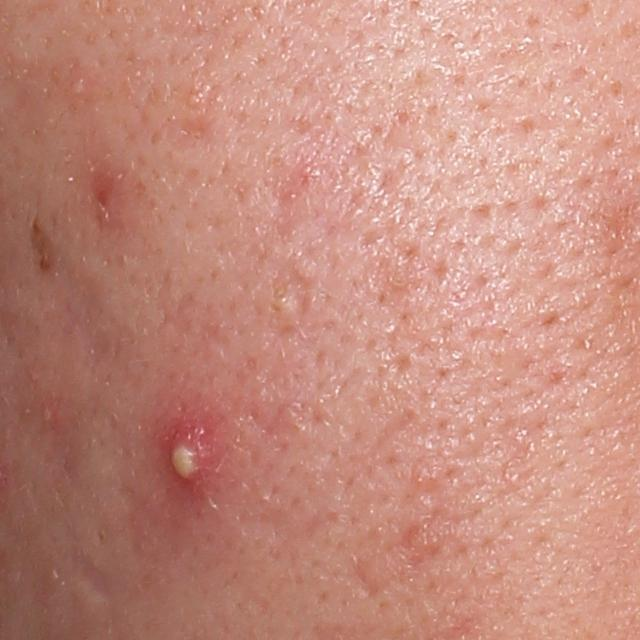atrophic_scar: (271, 255, 312, 331), (70, 544, 115, 605), (392, 516, 441, 568), (350, 551, 383, 606)
comedo: (183, 88, 203, 109), (68, 80, 84, 97)
pustule: (148, 401, 226, 520)
